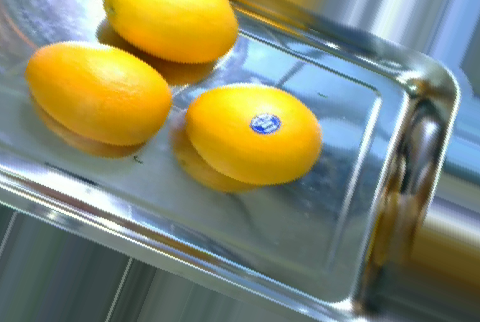Orange: (26, 39, 173, 146), (184, 80, 325, 187)
